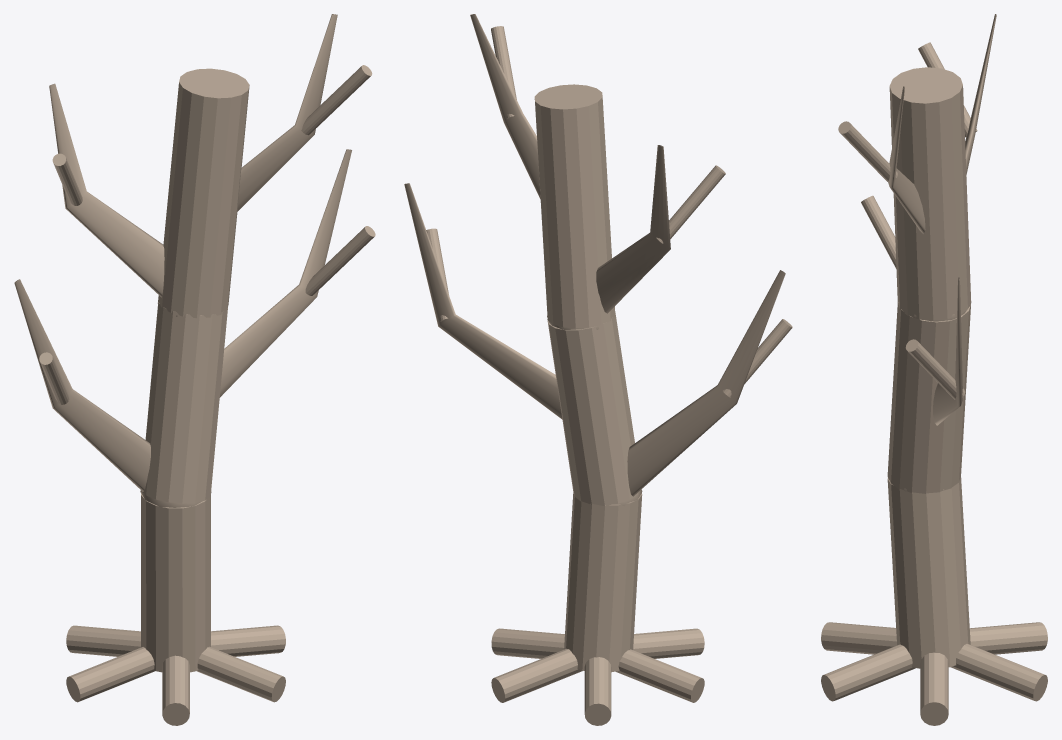
File: library_tree_dead.glb
3 views of the same model, side by side, from view 1: azimuth 30°, elevation 25°; view 2: azimuth 150°, elevation 25°; view 3: azimuth 270°, elevation 25° (orthographic). The views are drawn at different scales.
Parts seen in each view (by area): view 1: decor_806751_matte; view 2: decor_806751_matte; view 3: decor_806751_matte.
Boxes of the visible parts, x1,y1,x2,y2 form: decor_806751_matte: (14, 14, 375, 725); decor_806751_matte: (404, 14, 792, 725); decor_806751_matte: (821, 14, 1047, 725).
Size of the model in its own units: 2.14 by 3.57 by 1.11.
